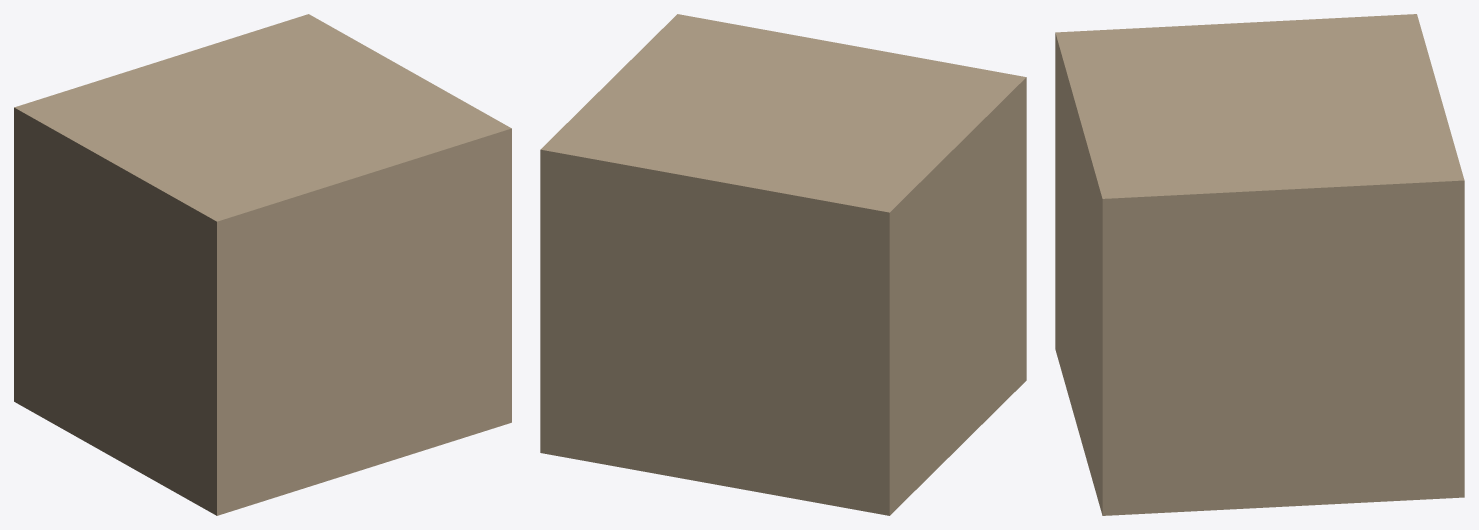
File: bld_109053869.dae
The picture shows the model from 3 angles, left to right: view 1: azimuth 30°, elevation 25°; view 2: azimuth 150°, elevation 25°; view 3: azimuth 270°, elevation 25°; orthographic projection. The views are drawn at different scales.
Parts seen in each view (by area): view 1: bld_109053869; view 2: bld_109053869; view 3: bld_109053869.
Part boxes in pixels (x1,y1,x2,y2): bld_109053869: (14,14,511,515); bld_109053869: (540,14,1026,515); bld_109053869: (1055,14,1464,515).
Size of the model in its own units: 10.01 by 9.36 by 8.
